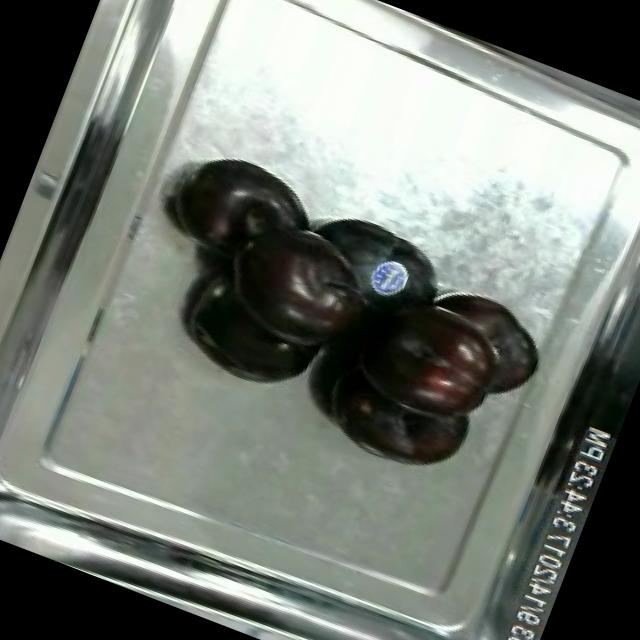Fruit: (337, 250, 563, 453), (312, 372, 479, 492)
